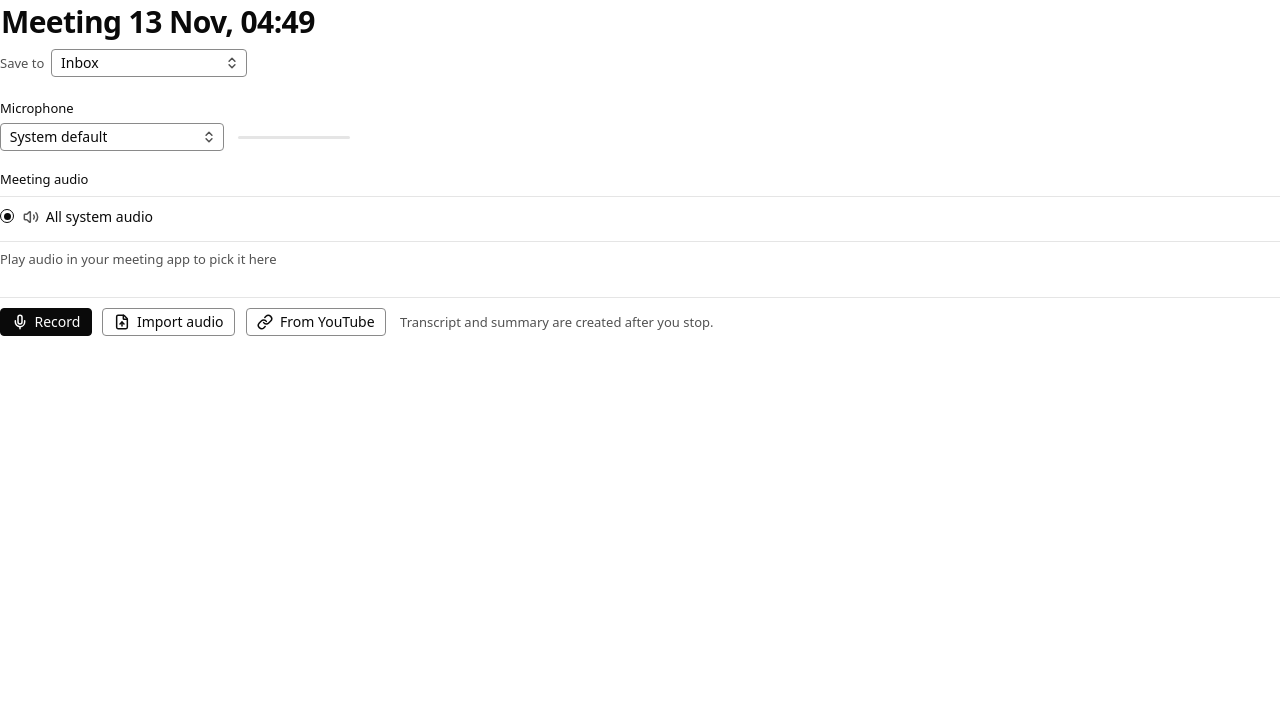
it: RecordRoute setup (spec 2.4, items 14 to 18) › item 16: a refused Record opens the dialog, and Cancel leaves everything as it was
The width and height of the screenshot is (1280, 720).
Click the button "Record" at coordinates (46, 322), box [0,308,92,336]
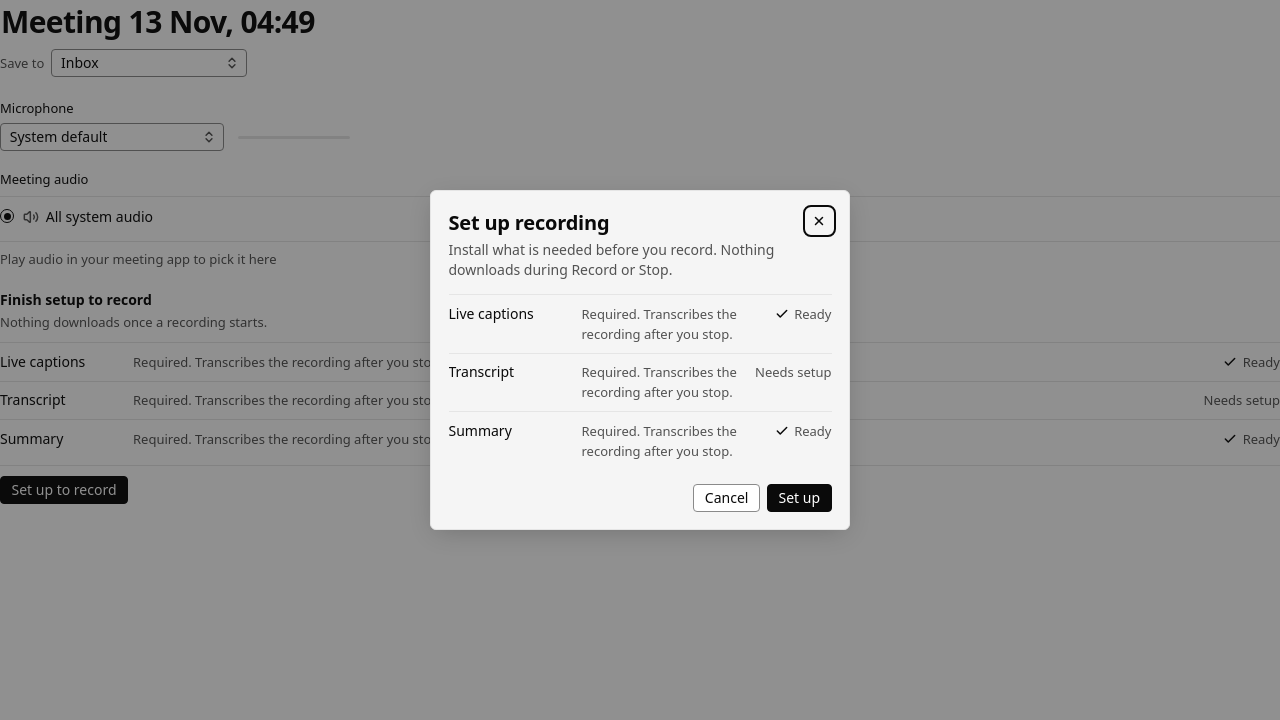
Check: the button "Set up" is shown, box [767,484,832,512]
Click the button "Cancel" at coordinates (727, 498), box [693,484,760,512]
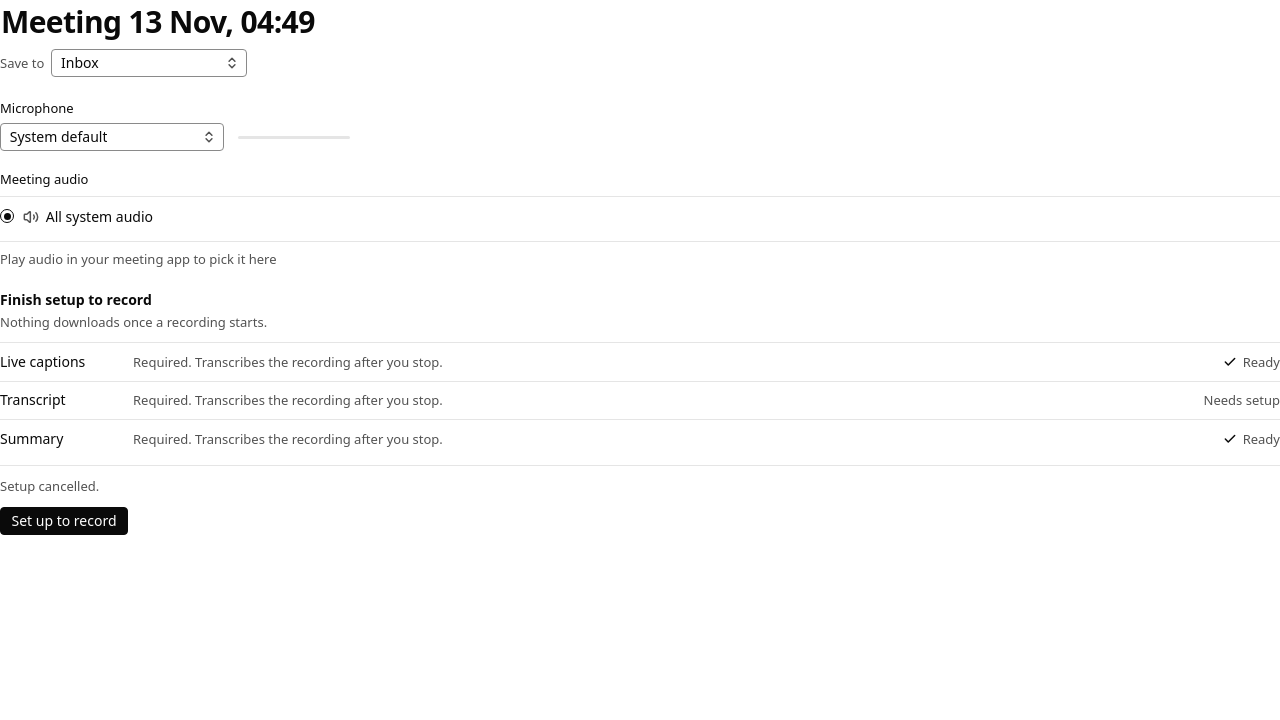
Check: the dialog is gone
Check: the text "Setup cancelled." is shown, box [0,477,99,495]
